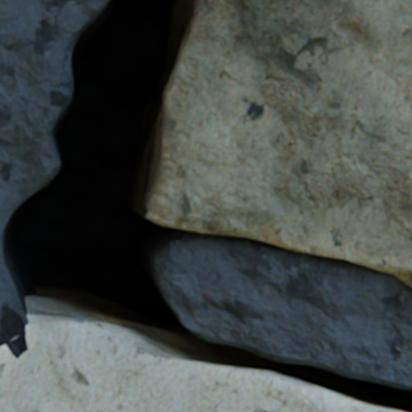brick: (145, 0, 411, 287), (0, 322, 406, 411)
crack: (0, 0, 411, 411)
